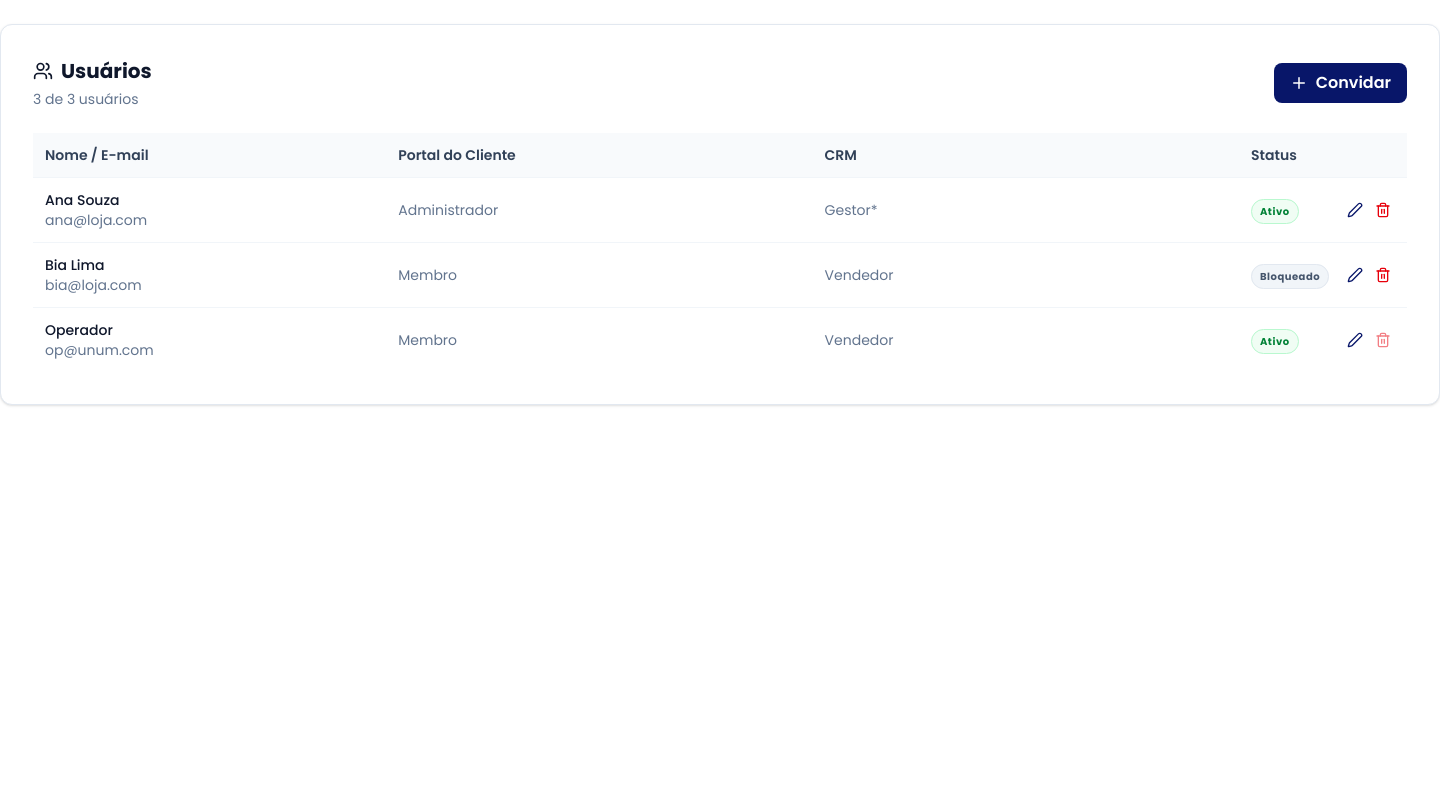
Test: TenantUsersSection › convidar acima do limite pede confirmação no próprio botão
This screenshot has width=1440, height=810.
Convidar só habilita depois que catálogo e papéis carregam.
Step 1. Click the button "Convidar" → x=1340, y=83, box [1274, 63, 1407, 103]
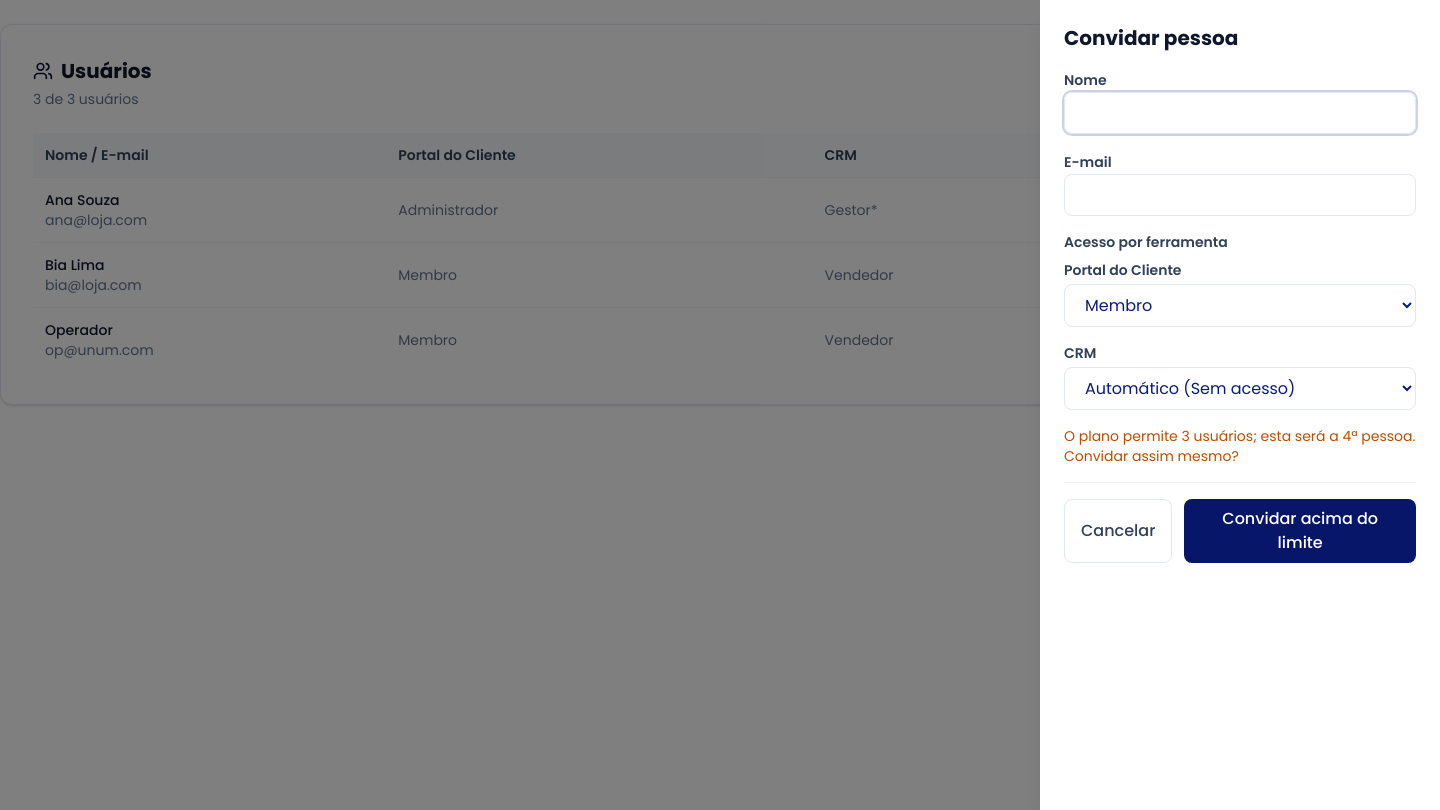
Now the text "O plano permite 3 usuários; esta será a 4ª pessoa. Convidar assim mesmo?" is shown, box [1064, 426, 1416, 466]
Now the button "Convidar acima do limite" is shown, box [1184, 499, 1416, 563]
